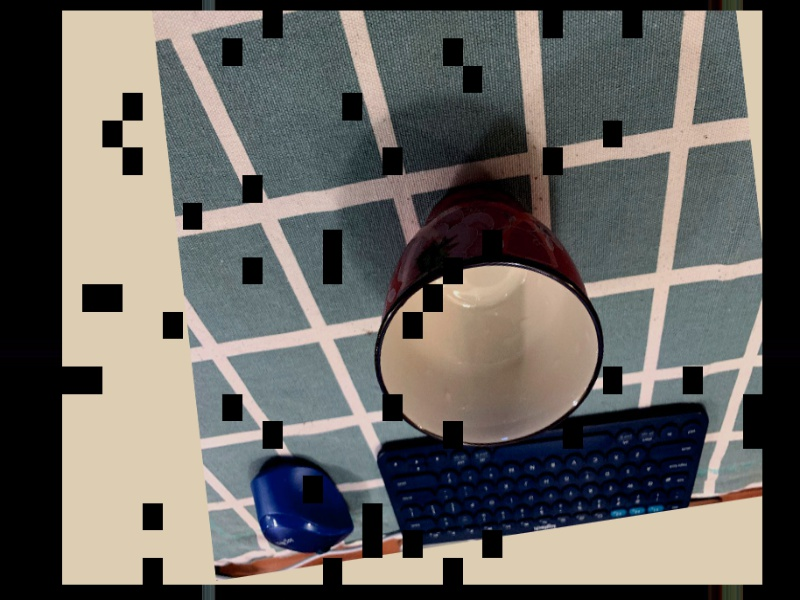bowl_small: (348, 158, 617, 470)
